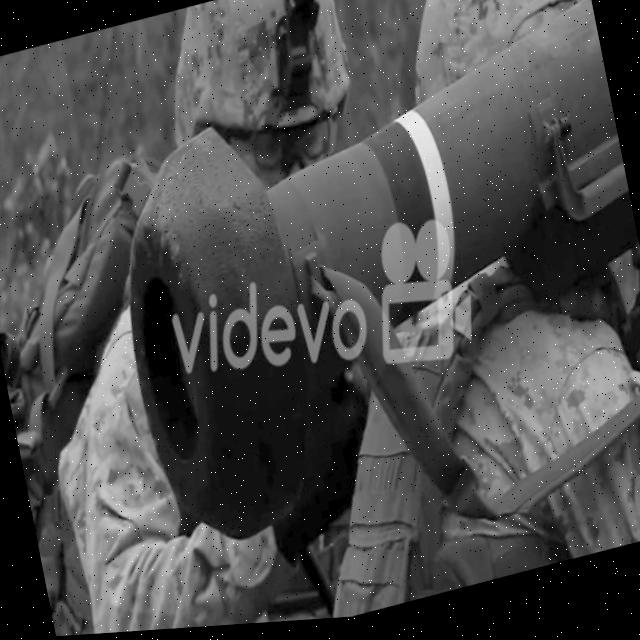rocket: (40, 0, 640, 637)
